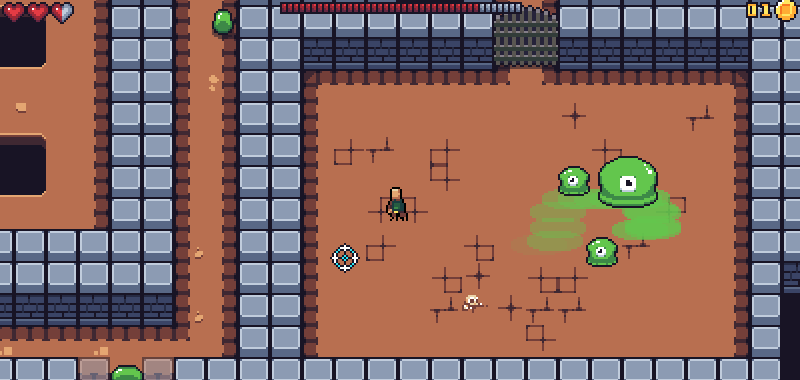enemy_slug: (210, 9, 234, 36)
enemy_slug_big: (558, 164, 590, 197), (585, 237, 617, 266)
enemy_slug_boss: (595, 153, 660, 209)
trap_door: (489, 5, 563, 70)
